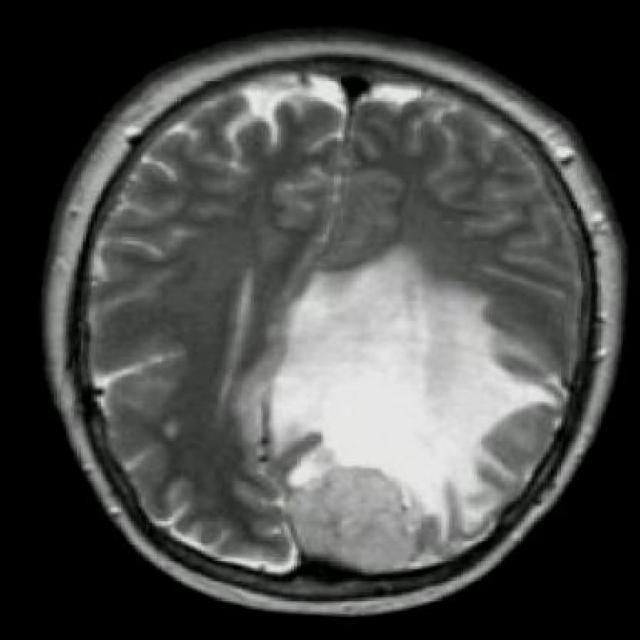Brain-Tumor: (280, 245, 560, 583)
